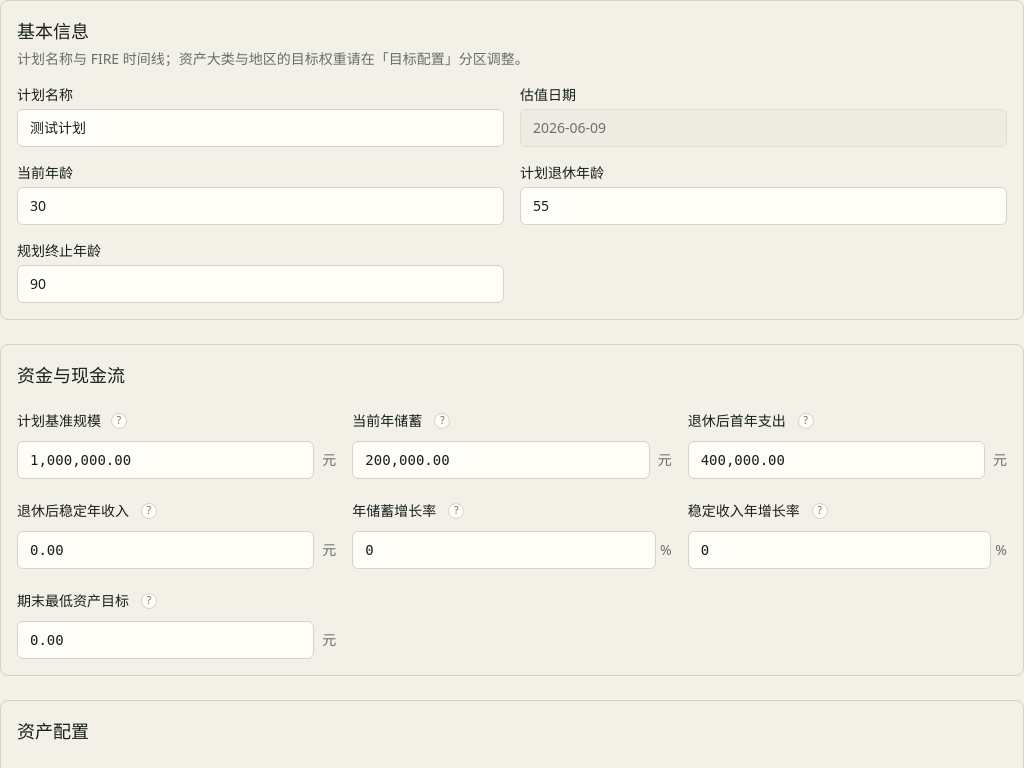
Scenario: ParametersPage strategy enums › blocks save with a Chinese message when core params are invalid (no request)
Check: the heading "资金与现金流" is shown, box [17,363,125,387]
# End age not greater than retirement age (55 in fixture).
Replace the text in the number field labelled "规划终止年龄" with "50" at (260,284), box [17,265,504,303]
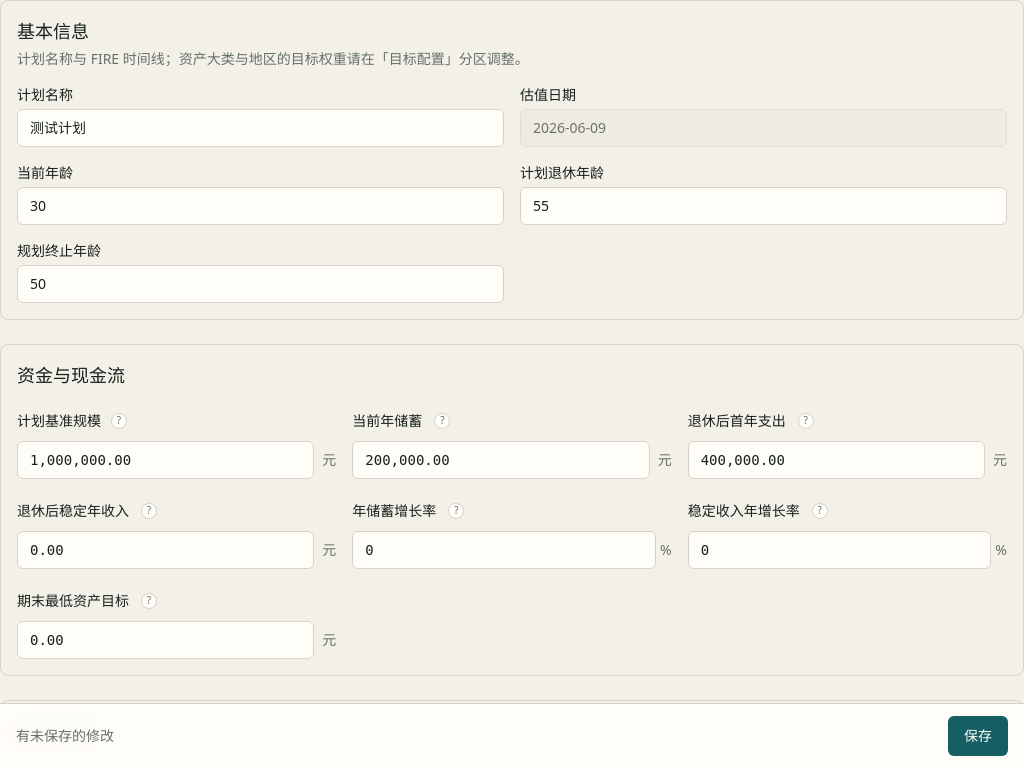
Click the button "保存".
click(978, 736)  # box [948,716,1008,756]
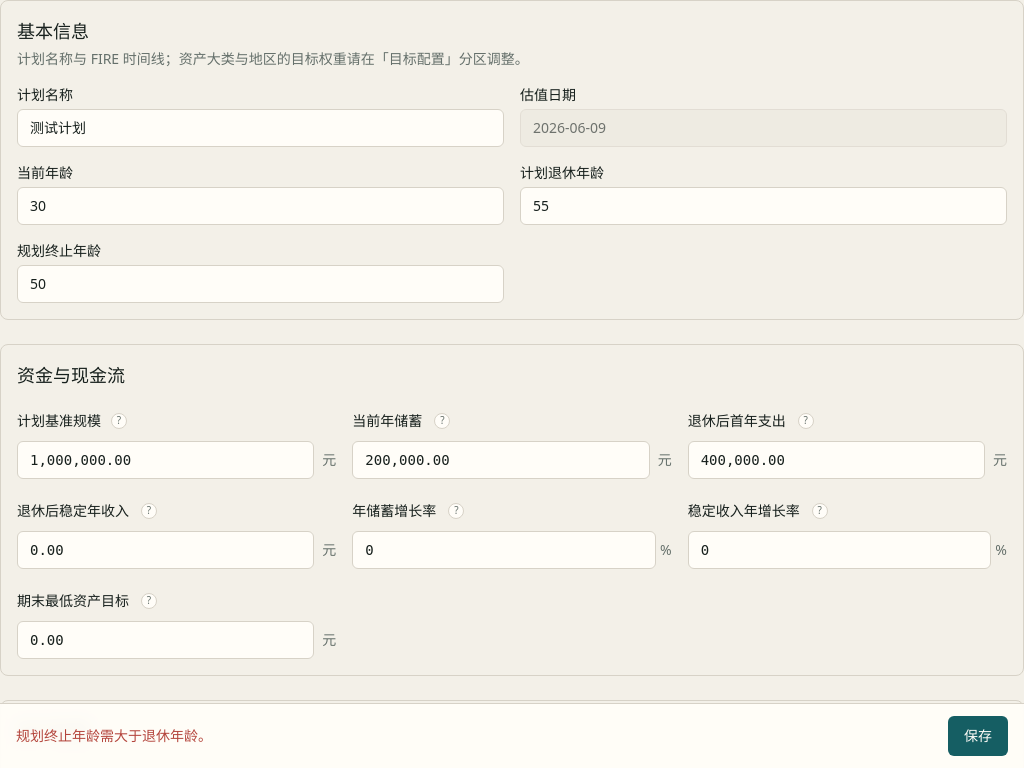
Check: the text "规划终止年龄需大于退休年龄。" is shown, box [16,726,212,745]
# Fix the age, then break the budget: zero annual spending.
Replace the text in the number field labelled "规划终止年龄" with "90" at (260,284), box [17,265,504,303]
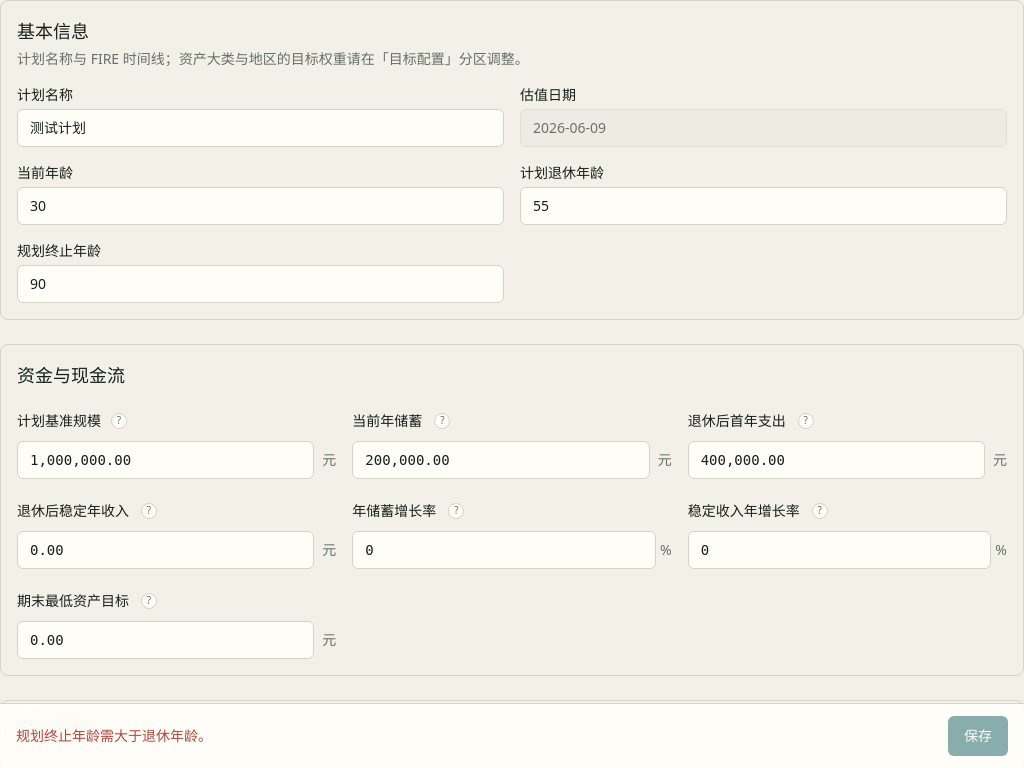
Replace the text in the field labelled "退休后首年支出 ? 元" with "0" at (836,460), box [688,441,985,479]
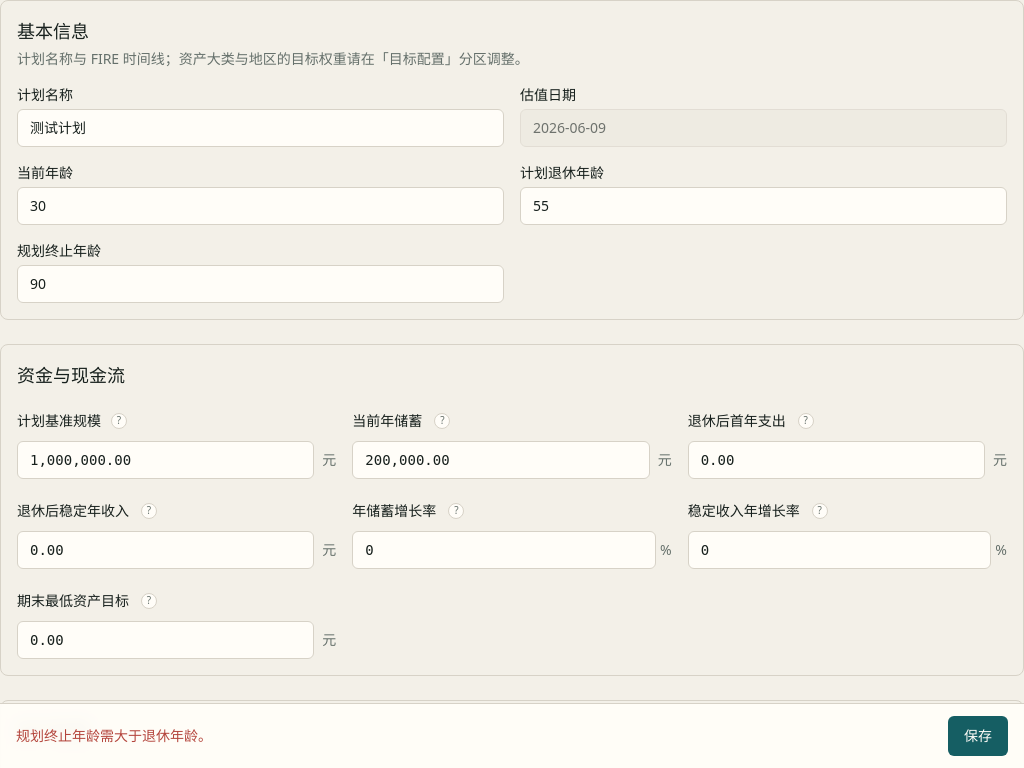
Click the button "保存".
click(978, 736)  # box [948,716,1008,756]
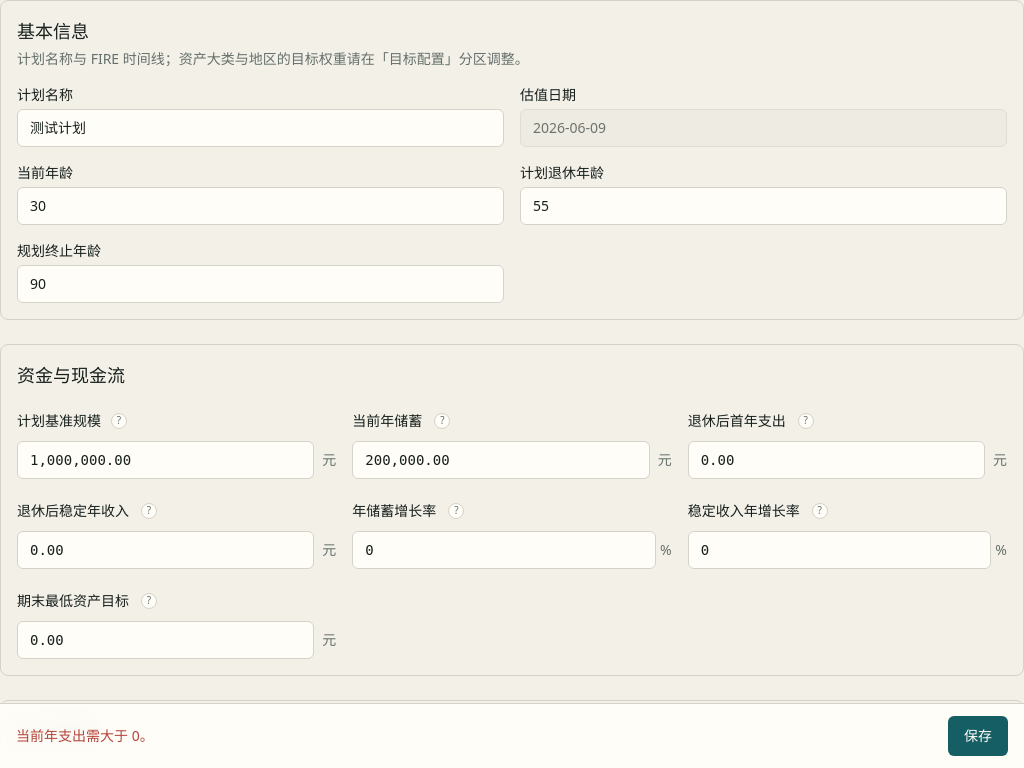
Check: the text "当前年支出需大于 0。" is shown, box [16,726,154,745]
